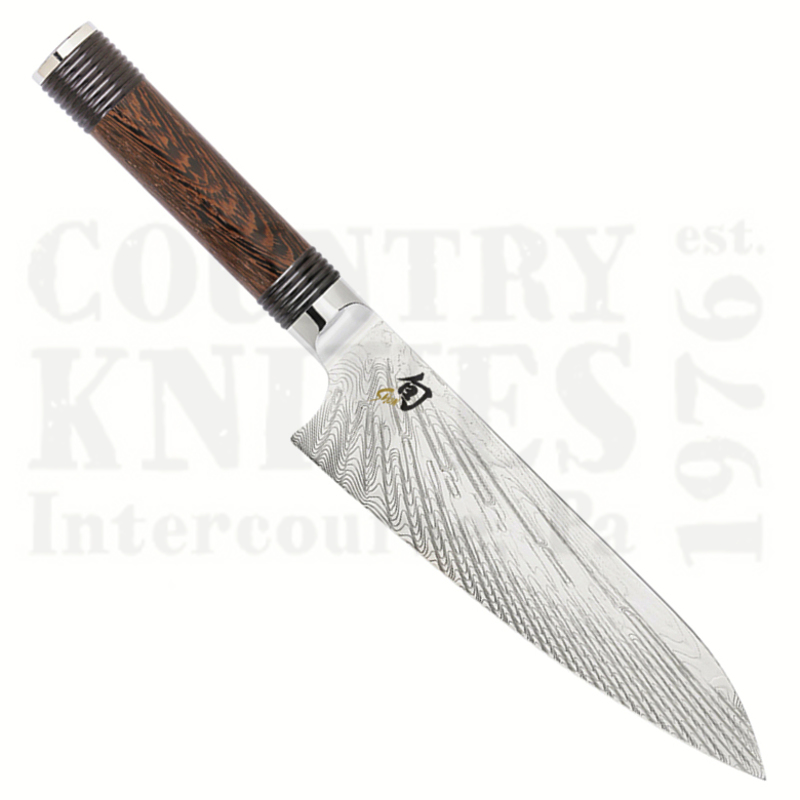knife: (31, 22, 772, 784)
